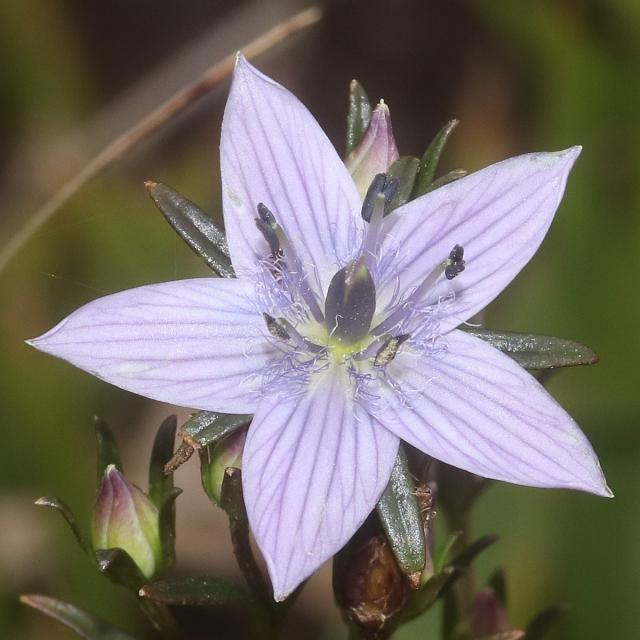Chirata: (151, 87, 640, 609)
